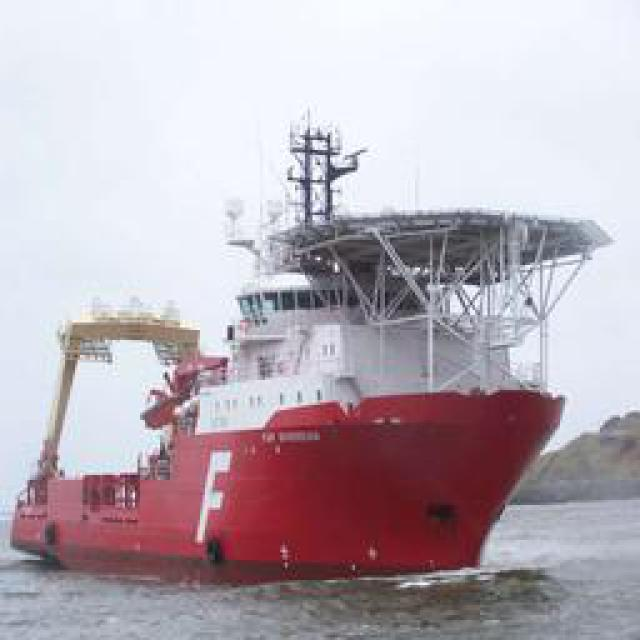Ship: (20, 253, 570, 581)
